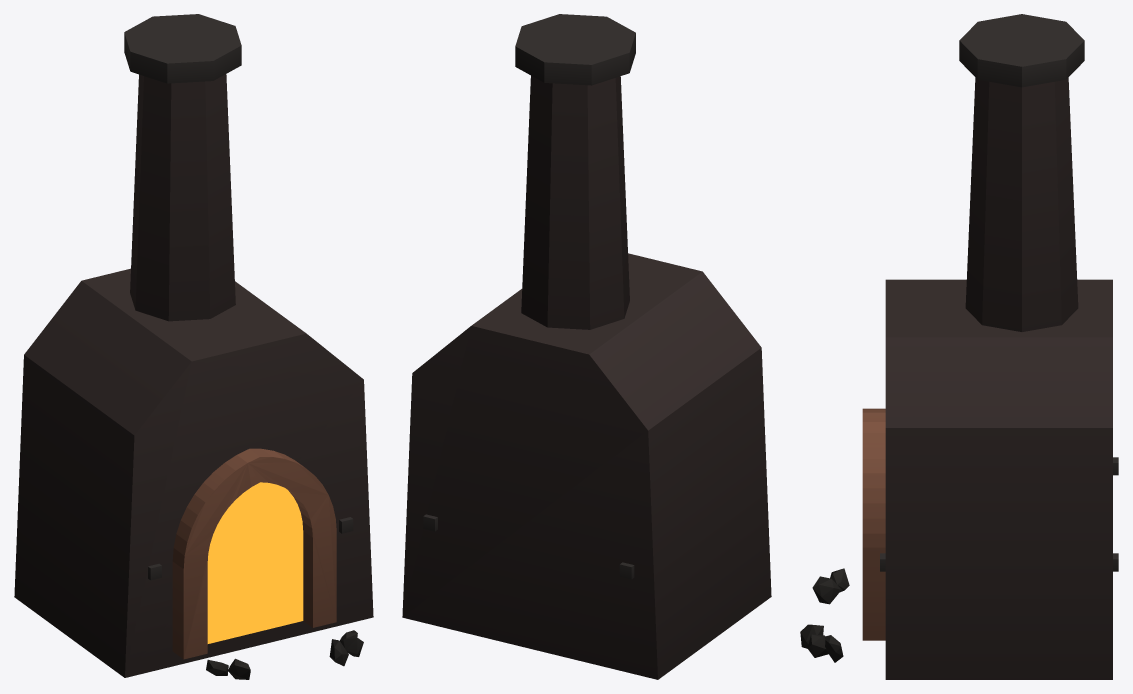
File: furnace.glb
3 renders of one model, left to right at view 1: azimuth 30°, elevation 25°; view 2: azimuth 150°, elevation 25°; view 3: azimuth 270°, elevation 25°, orthographic. The views are drawn at different scales.
Visible parts, largest first — view 1: furnace_mesh; view 2: furnace_mesh; view 3: furnace_mesh.
Part boxes in pixels (box(x1,y1,x2,y2)): furnace_mesh: box(14, 14, 373, 679); furnace_mesh: box(402, 14, 771, 679); furnace_mesh: box(800, 14, 1118, 679).
Size of the model in its own units: 2.6 by 5.66 by 2.8.
